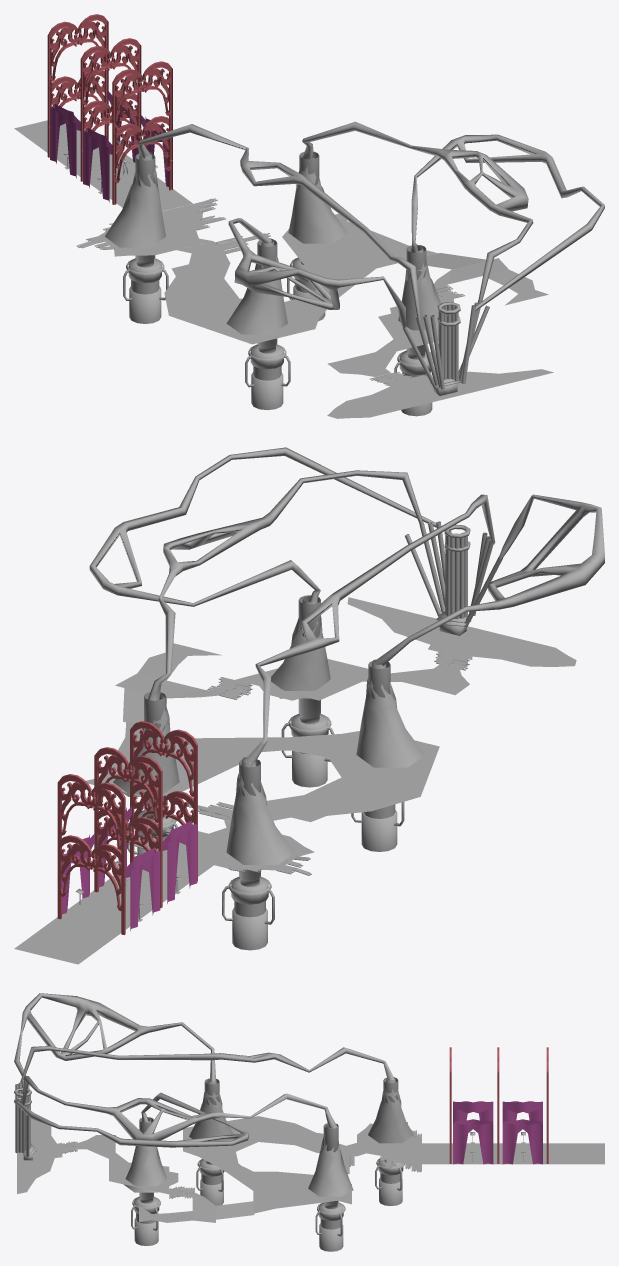
File: Environment_Building_Interior_Music_Store.fbx
3 renders of one model, top to bottom at view 1: azimuth 30°, elevation 25°; view 2: azimuth 150°, elevation 25°; view 3: azimuth 270°, elevation 25°, orthographic. The views are drawn at different scales.
Parts seen in each view (by area): view 1: polySurface174.001, Plane.049, polySurface174.003, polySurface174.000, Plane.017, Plane.015, Plane.018, Plane.013, Cube, Plane.014, Plane.016, Cube.002 (+1 smaller); view 2: polySurface174.001, Plane.049, polySurface174.003, polySurface174.000, Plane.017, Plane.013, Plane.018, Plane.015, Cube, Plane.014, Cube.001, Plane.016 (+1 smaller); view 3: Plane.049, polySurface174.001, polySurface174.003, polySurface174.000, Plane.013, Plane.015, Plane.017, Plane.018, Cube, Plane.014, Cube.001, Plane.016 (+1 smaller).
Boxes of the visible parts, left/top/right/bottom form: polySurface174.001: left=47, top=14, right=489, bottom=395; Plane.049: left=137, top=121, right=604, bottom=328; polySurface174.003: left=105, top=151, right=441, bottom=334; polySurface174.000: left=123, top=151, right=433, bottom=416; Plane.017: left=164, top=278, right=348, bottom=344; Plane.015: left=282, top=213, right=437, bottom=291; Plane.018: left=327, top=369, right=553, bottom=418; Plane.013: left=14, top=119, right=192, bottom=211; Cube: left=426, top=253, right=548, bottom=305; Plane.014: left=99, top=201, right=212, bottom=256; Plane.016: left=164, top=241, right=230, bottom=292; Cube.002: left=327, top=339, right=400, bottom=376; polySurface174.001: left=57, top=521, right=502, bottom=934; Plane.049: left=89, top=447, right=604, bottom=767; polySurface174.003: left=113, top=596, right=424, bottom=864; polySurface174.000: left=127, top=595, right=404, bottom=950; Plane.017: left=260, top=731, right=439, bottom=811; Plane.013: left=14, top=849, right=214, bottom=964; Plane.018: left=347, top=597, right=576, bottom=666; Plane.015: left=86, top=721, right=282, bottom=796; Cube: left=115, top=643, right=222, bottom=723; Plane.014: left=138, top=820, right=314, bottom=870; Cube.001: left=235, top=659, right=368, bottom=700; Plane.016: left=224, top=795, right=370, bottom=822; Plane.049: left=14, top=993, right=394, bottom=1147; polySurface174.001: left=14, top=1047, right=548, bottom=1164; polySurface174.003: left=123, top=1077, right=413, bottom=1196; polySurface174.000: left=131, top=1077, right=404, bottom=1251; Plane.013: left=421, top=1143, right=604, bottom=1164; Plane.015: left=231, top=1165, right=351, bottom=1213; Plane.017: left=183, top=1116, right=294, bottom=1175; Plane.018: left=17, top=1118, right=62, bottom=1193; Cube: left=139, top=1192, right=254, bottom=1222; Plane.014: left=357, top=1123, right=421, bottom=1168; Cube.001: left=109, top=1160, right=178, bottom=1194; Plane.016: left=295, top=1123, right=356, bottom=1156.
Bounding box in the file's own units: 5994 × 3682 × 11052.
